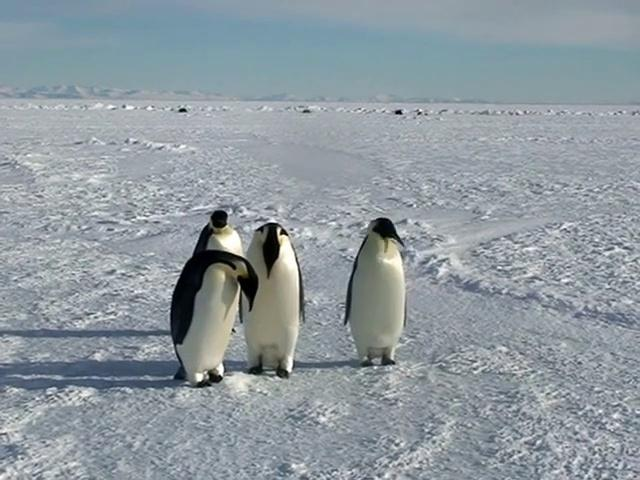animal: (345, 219, 407, 367)
